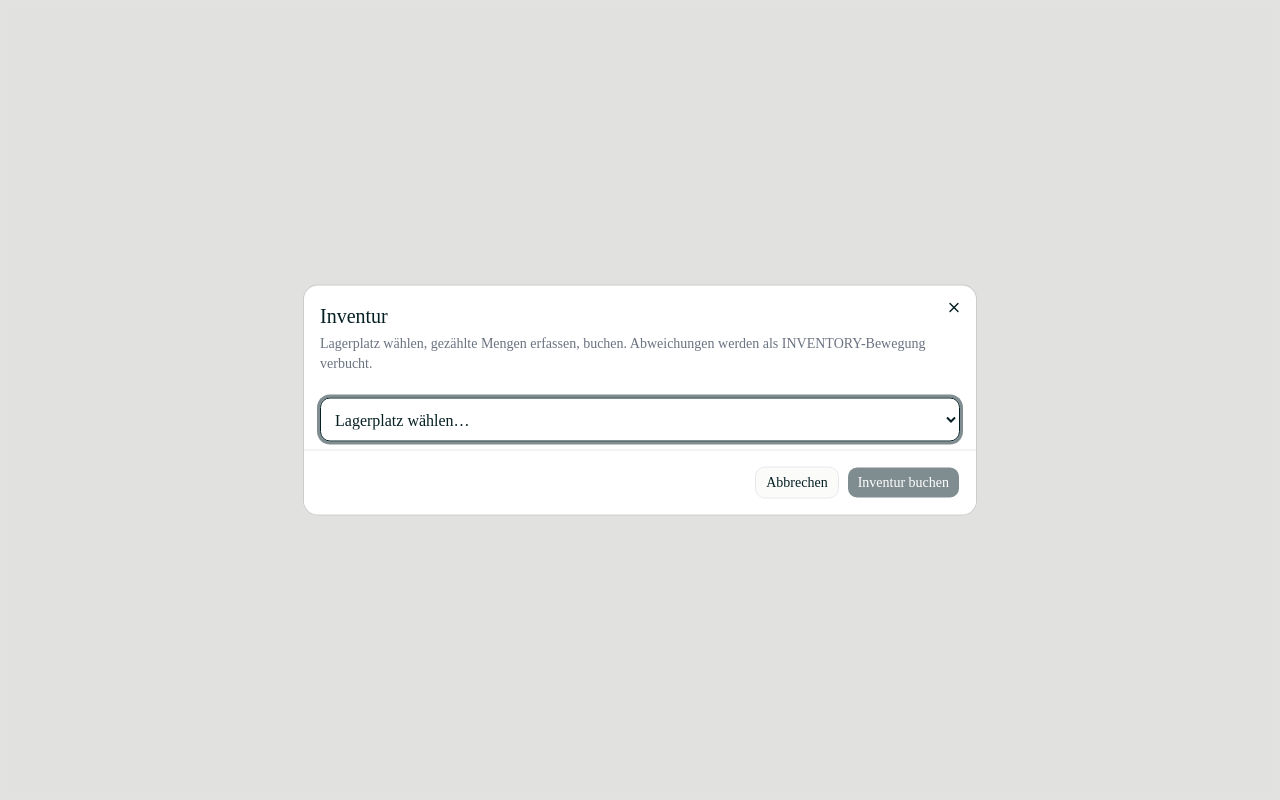
InventoryModal (T17d) › Desktop: Tabelle bleibt
Select "A-01 — Regal A" in the dropdown at (640,420), box [320,398,960,442]
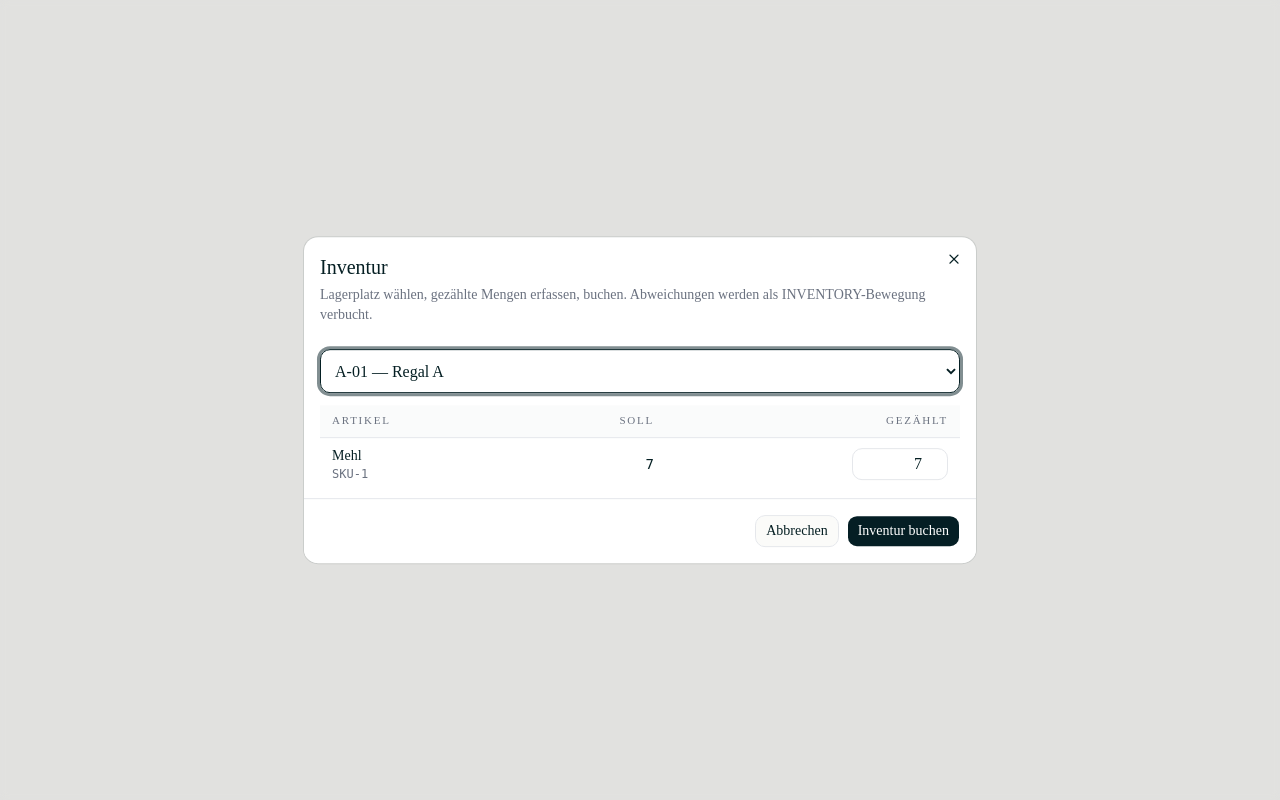
Result: the table is shown at [320,405,960,490]
